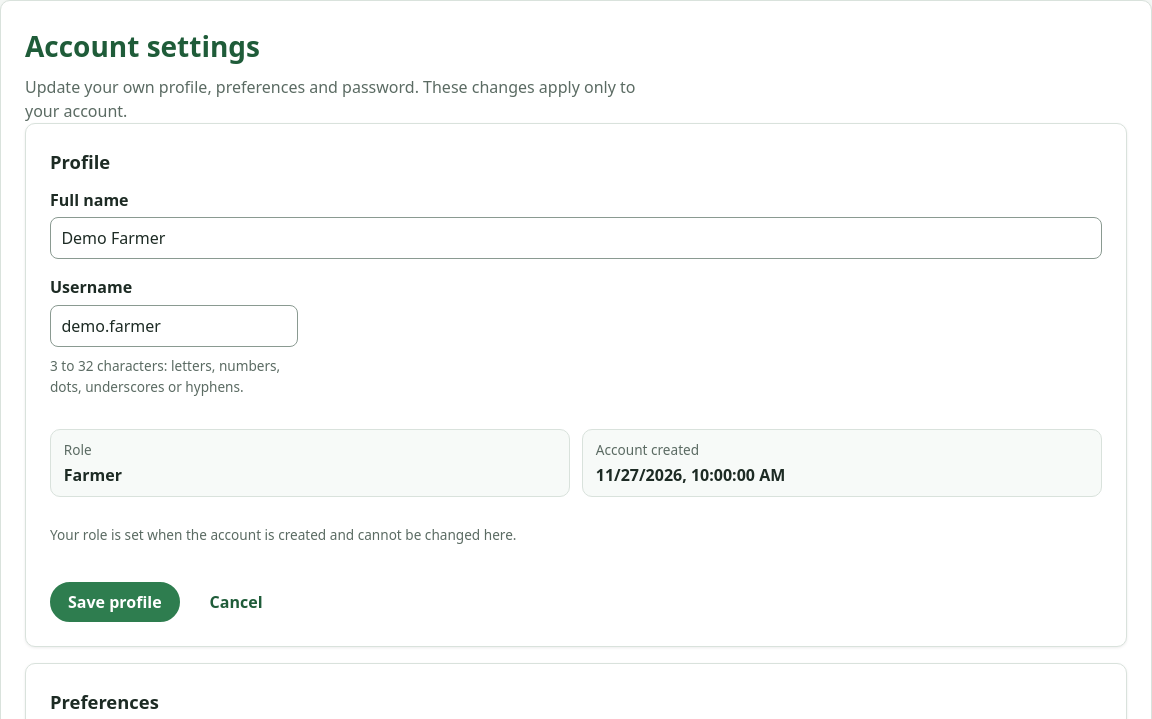
AccountSettingsPage › validates the profile before sending anything
The image size is (1152, 719).
Clear the field labelled "Full name" at x=576, y=238, box x1=50 y1=217 x2=1102 y2=259
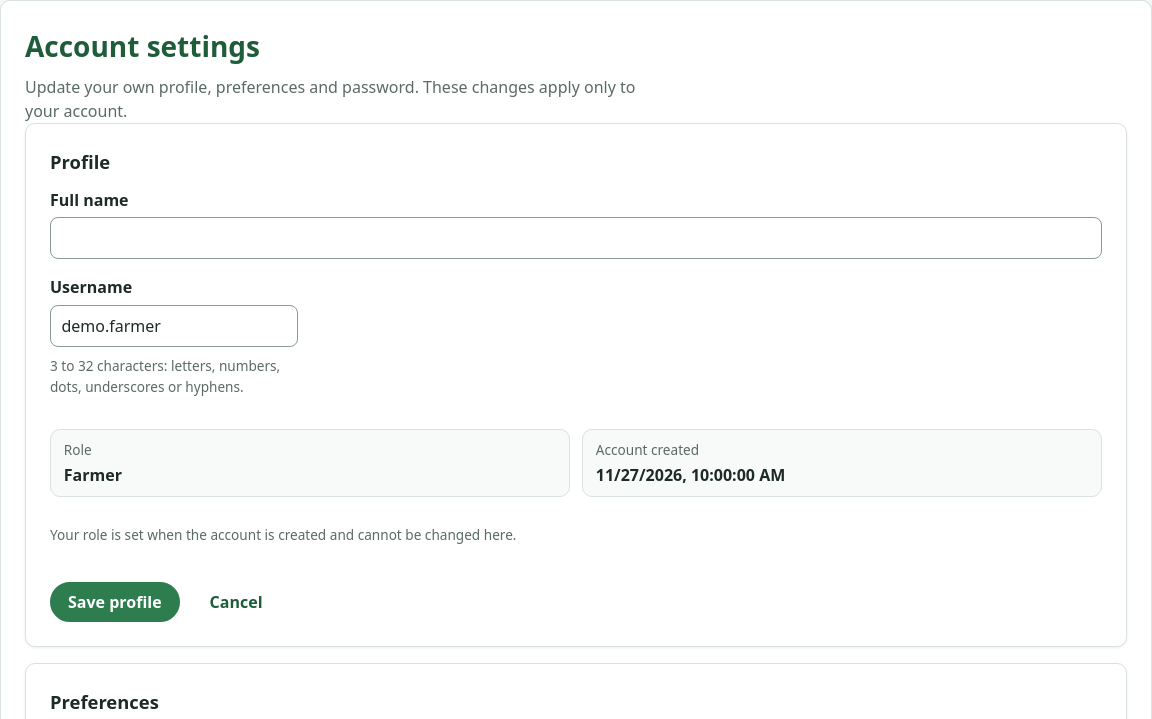
Click the button "Save profile" at x=115, y=602, box x1=50 y1=582 x2=180 y2=622
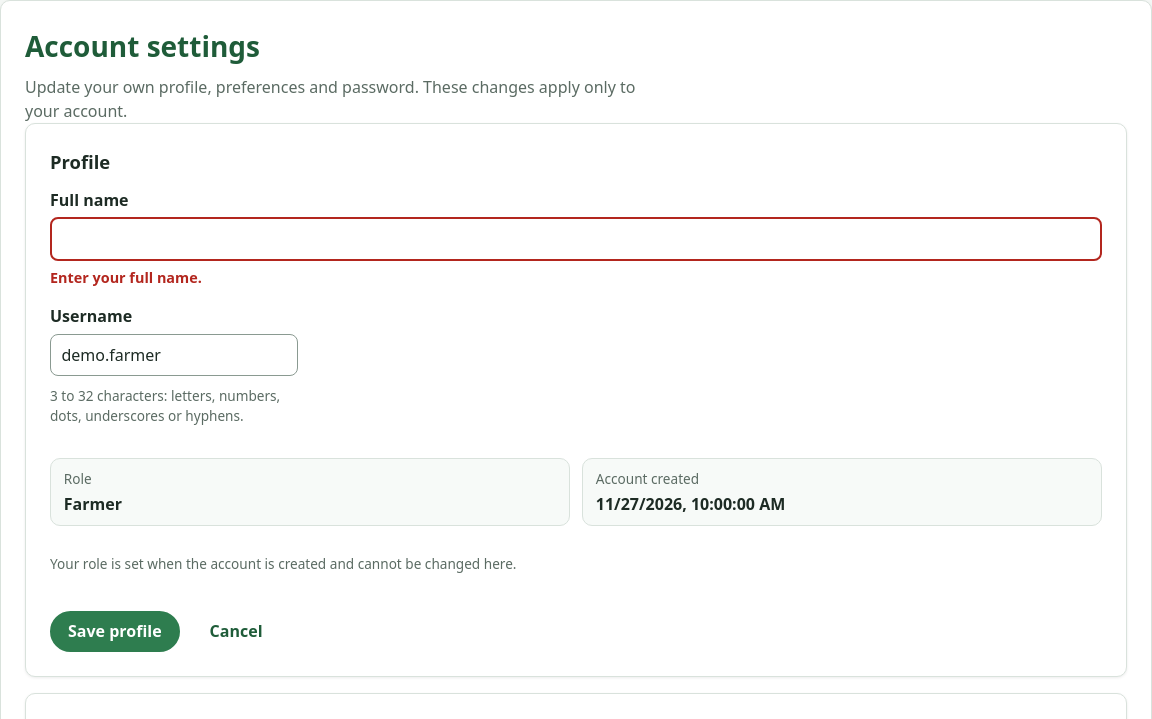
Expected: the text "Enter your full name." is shown, x1=50 y1=268 x2=202 y2=287
